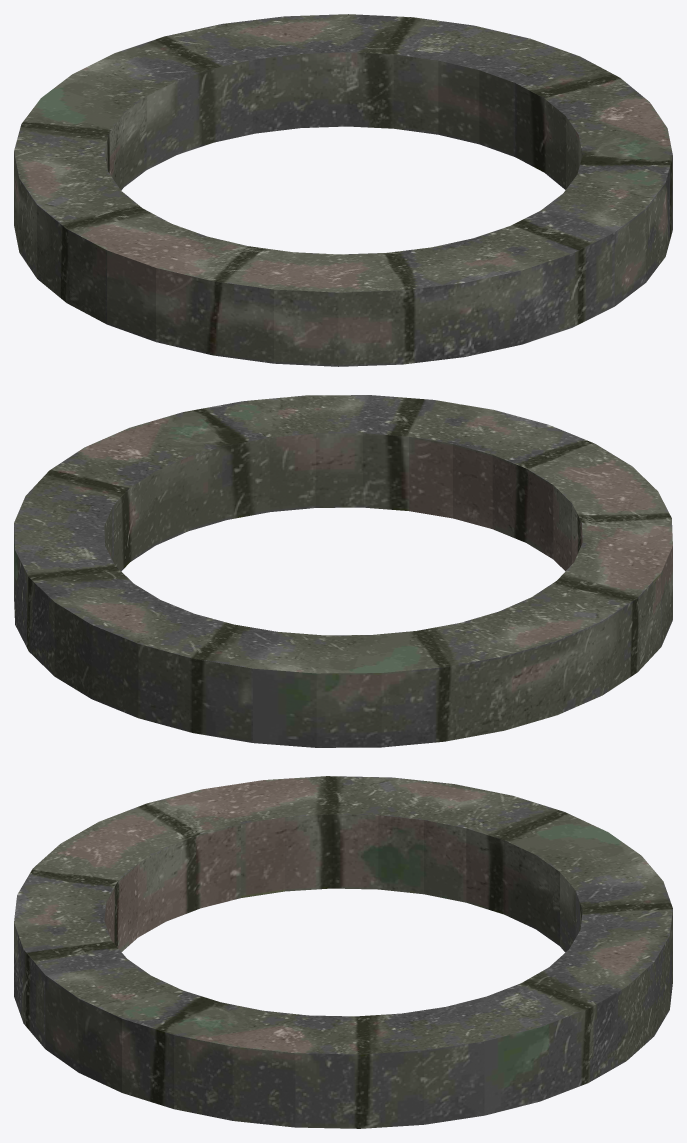
File: StoneWell_part_22.fbx
The picture shows the model from 3 angles, top to bottom: view 1: azimuth 30°, elevation 25°; view 2: azimuth 150°, elevation 25°; view 3: azimuth 270°, elevation 25°; orthographic projection.
Parts seen in each view (by area): view 1: Cylinder.005_Brick_0.001; view 2: Cylinder.005_Brick_0.001; view 3: Cylinder.005_Brick_0.001.
Boxes of the visible parts, box(x1,y1,x2,y2) form: Cylinder.005_Brick_0.001: box(14, 14, 672, 366); Cylinder.005_Brick_0.001: box(14, 395, 672, 747); Cylinder.005_Brick_0.001: box(14, 776, 672, 1128).
Size of the model in its own units: 855 by 106 by 855.
